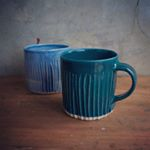cups: (57, 47, 139, 123)
